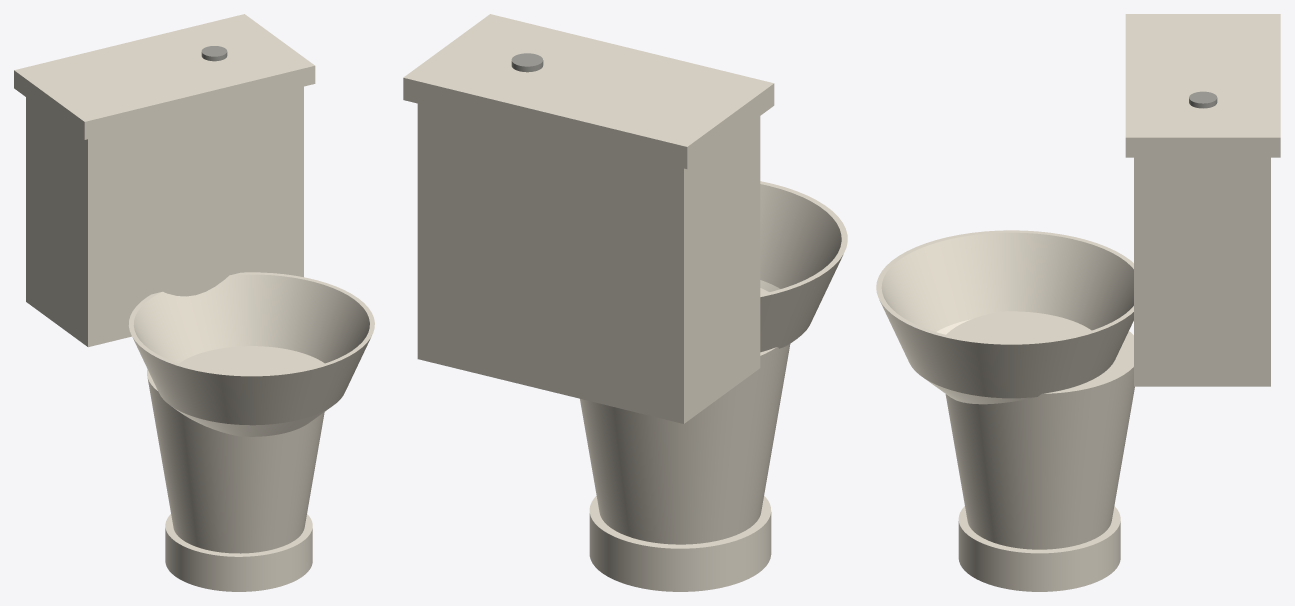
The model's file is toilet.glb.
The picture shows the model from 3 angles, left to right: view 1: azimuth 30°, elevation 25°; view 2: azimuth 150°, elevation 25°; view 3: azimuth 270°, elevation 25°; orthographic projection. The views are drawn at different scales.
Visible parts, largest first — view 1: Cistern, Bowl, Tank lid, Pedestal, Foot; view 2: Cistern, Tank lid, Pedestal, Bowl, Foot; view 3: Bowl, Cistern, Pedestal, Tank lid, Foot.
Part boxes in pixels (x1,y1,x2,y2): Cistern: (26, 86, 303, 347); Bowl: (128, 272, 374, 436); Tank lid: (14, 14, 315, 139); Pedestal: (147, 346, 324, 553); Foot: (165, 514, 312, 591); Cistern: (417, 103, 760, 423); Tank lid: (403, 14, 774, 169); Pedestal: (580, 288, 790, 544); Bowl: (760, 181, 847, 352); Foot: (589, 496, 771, 591); Bowl: (876, 230, 1133, 404); Cistern: (1134, 157, 1270, 386); Pedestal: (945, 311, 1134, 549); Tank lid: (1125, 14, 1280, 157); Foot: (958, 506, 1120, 591).
Bounding box in the file's own units: 0.426 × 0.782 × 0.589.
